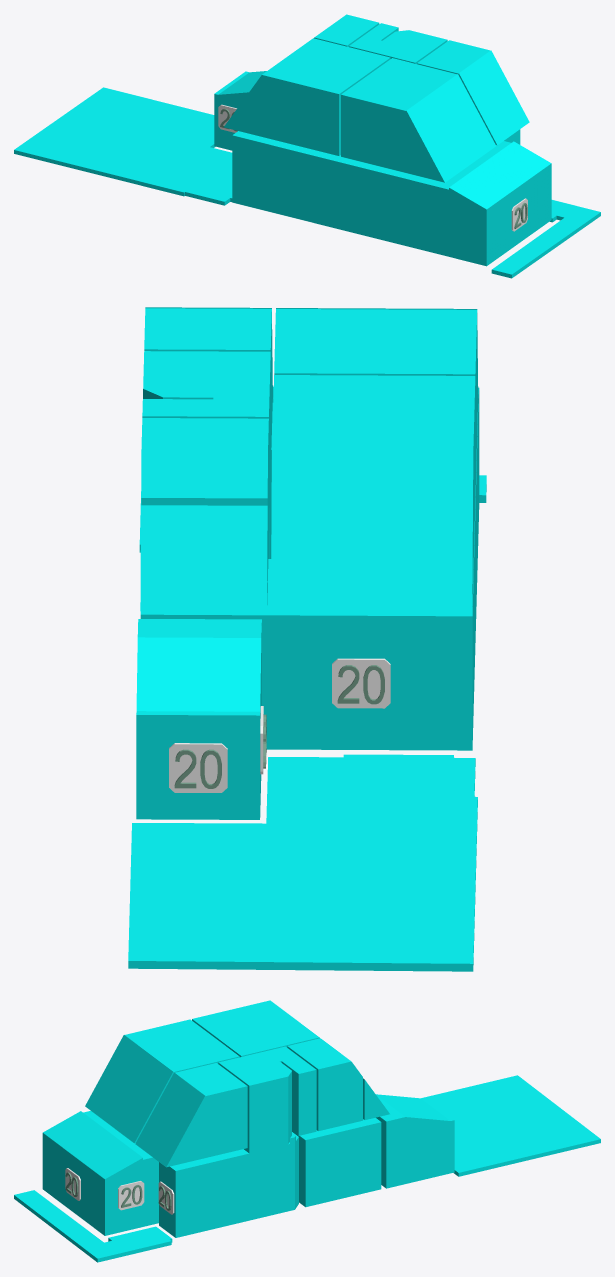
3 views of the same model, one above another, from view 1: azimuth 30°, elevation 25°; view 2: azimuth 150°, elevation 25°; view 3: azimuth 270°, elevation 25° (orthographic). The views are drawn at different scales.
Visible parts, largest first — view 1: g_1, g_14, g_8, g_7, g_0, g_9, g_15, g_10, g_5, g_6, g_13, g_11; view 2: g_14, g_7, g_0, g_5, g_8, g_12, g_6, g_9, g_10, g_11, g_18, g_21 (+1 smaller); view 3: g_14, g_1, g_8, g_9, g_0, g_4, g_5, g_7, g_6, g_2, g_11, g_10 (+4 smaller).
Boxes of the visible parts, box(x1,y1,x2,y2) form: g_1: box(308, 141, 551, 266); g_14: box(14, 87, 232, 205); g_8: box(341, 58, 495, 182); g_7: box(224, 38, 390, 155); g_0: box(232, 131, 313, 221); g_9: box(417, 40, 529, 145); g_15: box(491, 217, 585, 278); g_10: box(349, 23, 434, 63); g_5: box(214, 71, 266, 150); g_6: box(314, 14, 379, 46); g_13: box(550, 200, 600, 226); g_11: box(383, 30, 447, 50); g_14: box(128, 754, 477, 971); g_7: box(271, 375, 475, 612); g_0: box(140, 542, 474, 750); g_5: box(136, 619, 261, 819); g_8: box(274, 308, 478, 496); g_12: box(140, 505, 267, 611); g_6: box(141, 418, 268, 580); g_9: box(144, 307, 272, 471); g_10: box(142, 351, 270, 532); g_11: box(143, 351, 213, 399); g_18: box(332, 658, 390, 708); g_21: box(169, 743, 227, 792); g_14: box(425, 1075, 600, 1176); g_1: box(42, 1111, 158, 1235); g_8: box(85, 1019, 239, 1143); g_9: box(135, 1063, 247, 1167); g_0: box(292, 1117, 381, 1207); g_4: box(159, 1149, 246, 1237); g_5: box(376, 1094, 454, 1188); g_7: box(192, 1000, 319, 1057); g_6: box(287, 1038, 362, 1131); g_2: box(241, 1132, 298, 1220); g_11: box(237, 1061, 291, 1147); g_10: box(218, 1046, 316, 1135).
Size of the model in its own units: 15.09 by 5.36 by 20.41.
